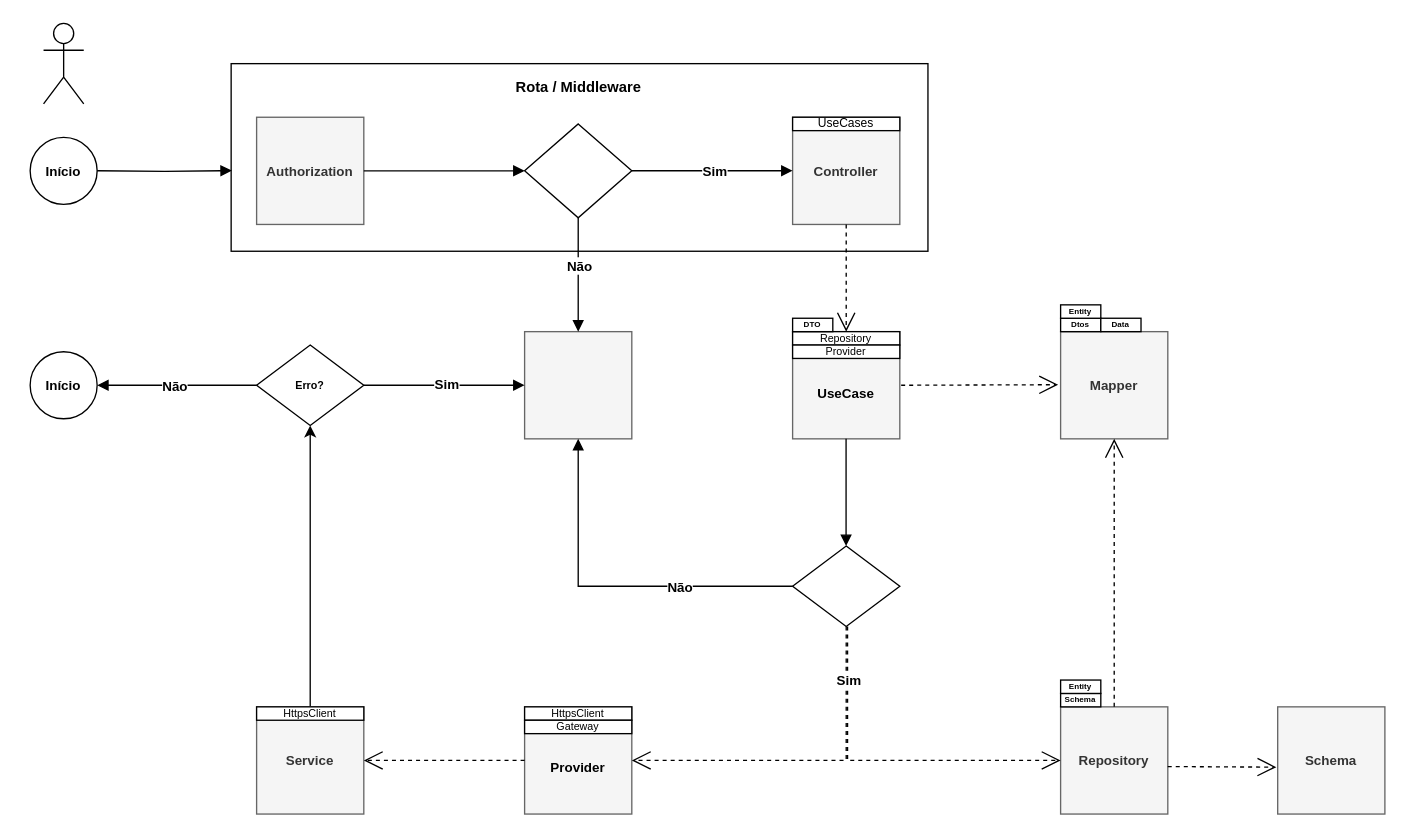
The diagram is 1408 pixels wide and 838 high, and some of its shapes have lost their labels. The centre of each missing label's shape, as x and y in pixels:
"Dto válido?" goes at [845,585].
"Exception Handle Middleware" goes at [577,384].
"Token válido?" goes at [577,170].
"User request" goes at [63,63].
